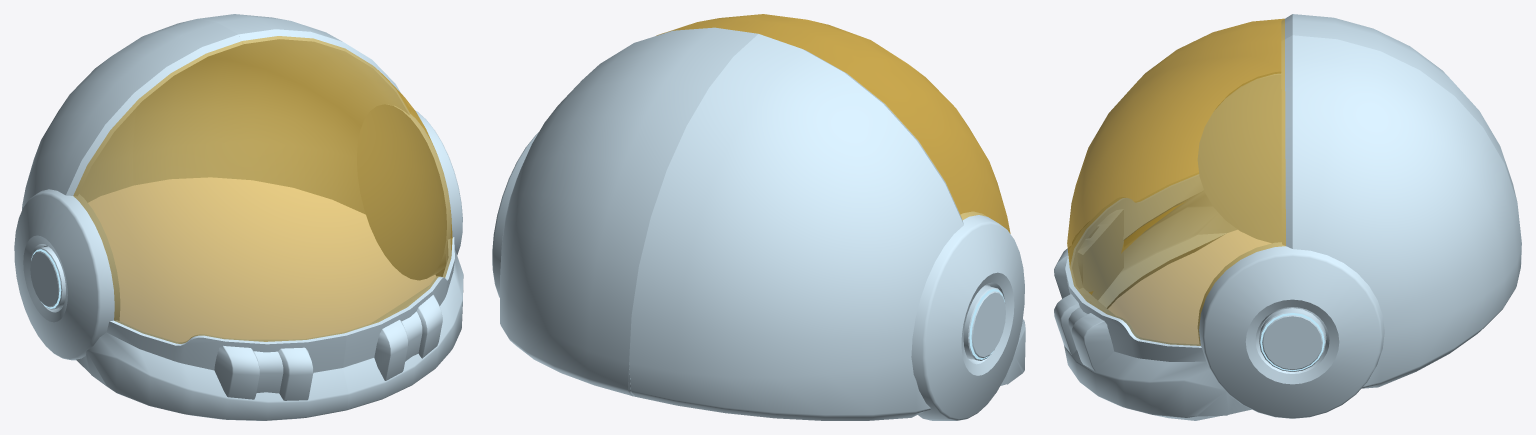
Rendered from avatar_helmet.glb.
3 renders of one model, left to right at view 1: azimuth 30°, elevation 25°; view 2: azimuth 150°, elevation 25°; view 3: azimuth 270°, elevation 25°, orthographic. The views are drawn at different scales.
Visible parts, largest first — view 1: Sphere.003, Sphere, Sphere.005, Sphere.001, Cylinder; view 2: Sphere, Sphere.005, Sphere.003, Cylinder; view 3: Sphere, Sphere.003, Sphere.005, Sphere.001, Cylinder.
Boxes of the visible parts, <box> form: Sphere.003: <box>73,36,452,343</box>; Sphere: <box>22,14,463,420</box>; Sphere.005: <box>14,104,462,360</box>; Sphere.001: <box>214,286,442,400</box>; Cylinder: <box>30,246,65,309</box>; Sphere: <box>500,27,1025,420</box>; Sphere.005: <box>492,132,1024,420</box>; Sphere.003: <box>656,14,1010,233</box>; Cylinder: <box>963,285,1005,360</box>; Sphere: <box>1064,14,1521,420</box>; Sphere.003: <box>1067,18,1285,345</box>; Sphere.005: <box>1198,72,1384,418</box>; Sphere.001: <box>1054,209,1123,371</box>; Cylinder: <box>1259,308,1325,371</box>.
Size of the model in its own units: 2.06 by 1.54 by 2.04.
